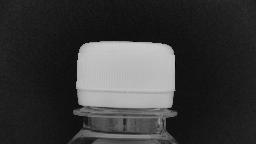Good Cap: (68, 38, 184, 122)
